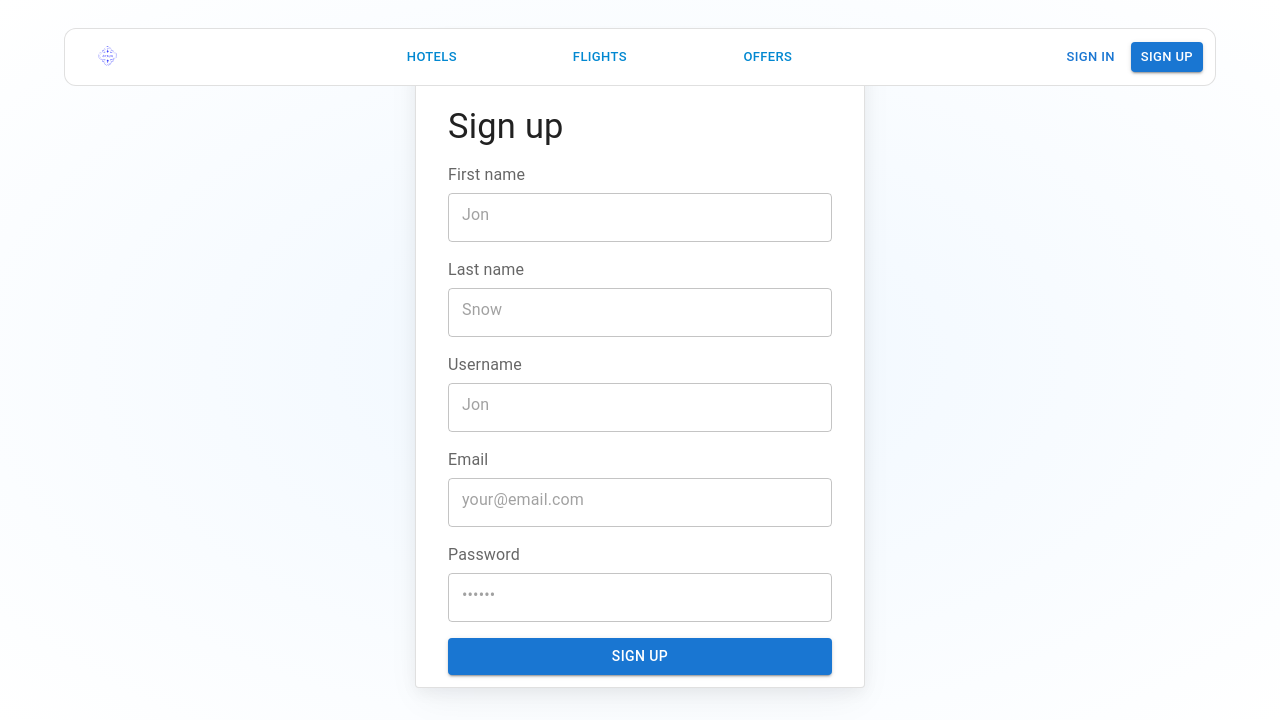
Test case: User Sign Up › should display an error for invalid email
# Enter an invalid email
Type "Eva" into the field named "firstname". click: (640, 215)
box: [448, 187, 832, 243]
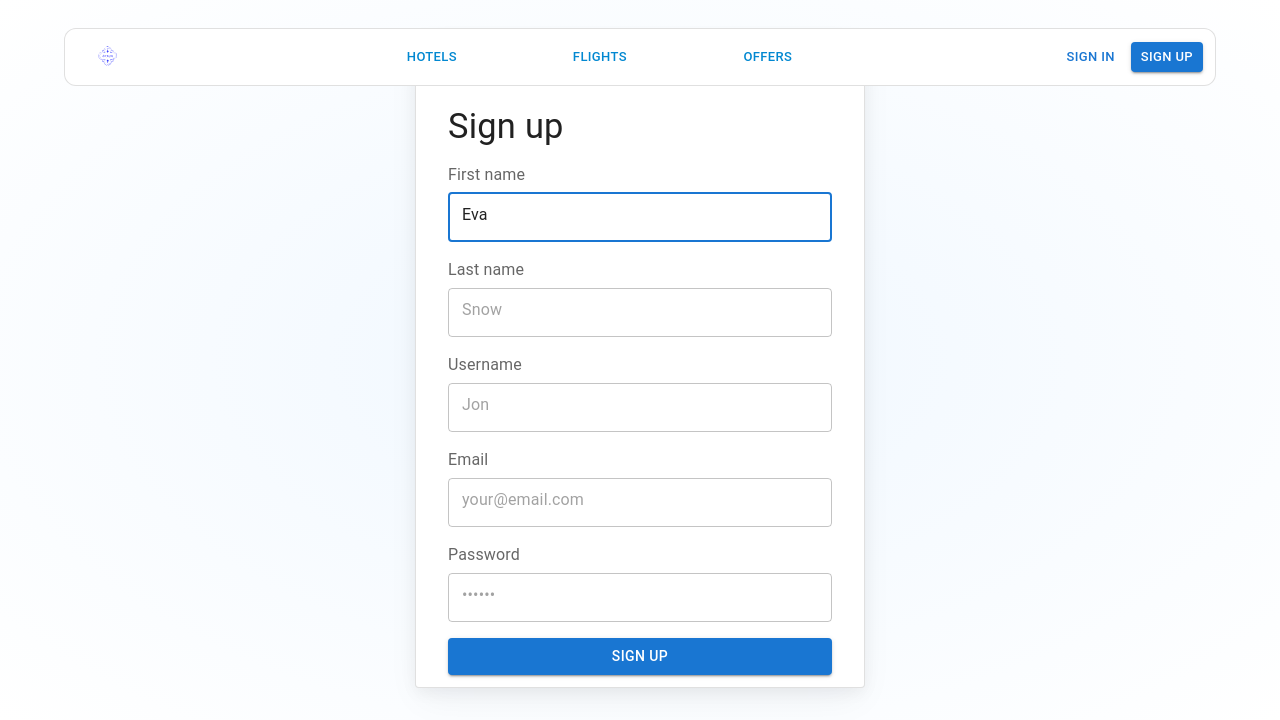
Type "Elfie" into the field named "lastname". click: (640, 310)
box: [448, 282, 832, 338]
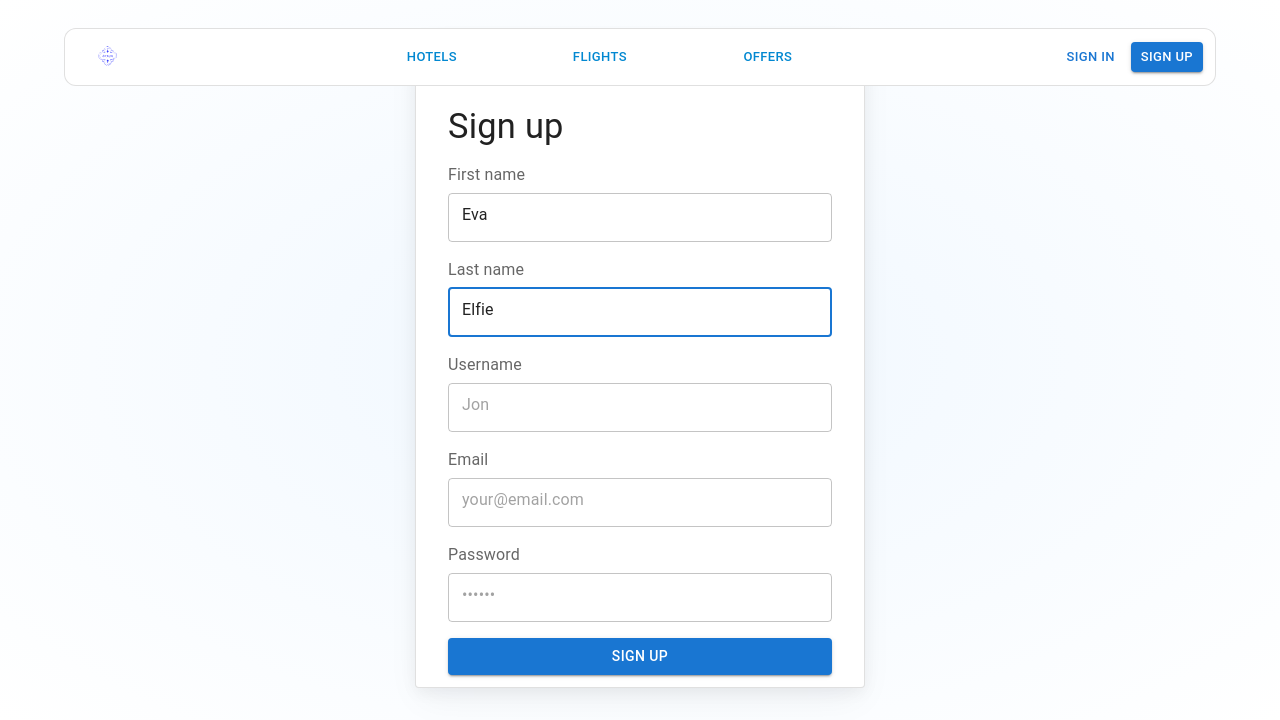
Type "Eva_Elfie" into the field named "pseudo". click: (640, 405)
box: [448, 377, 832, 433]
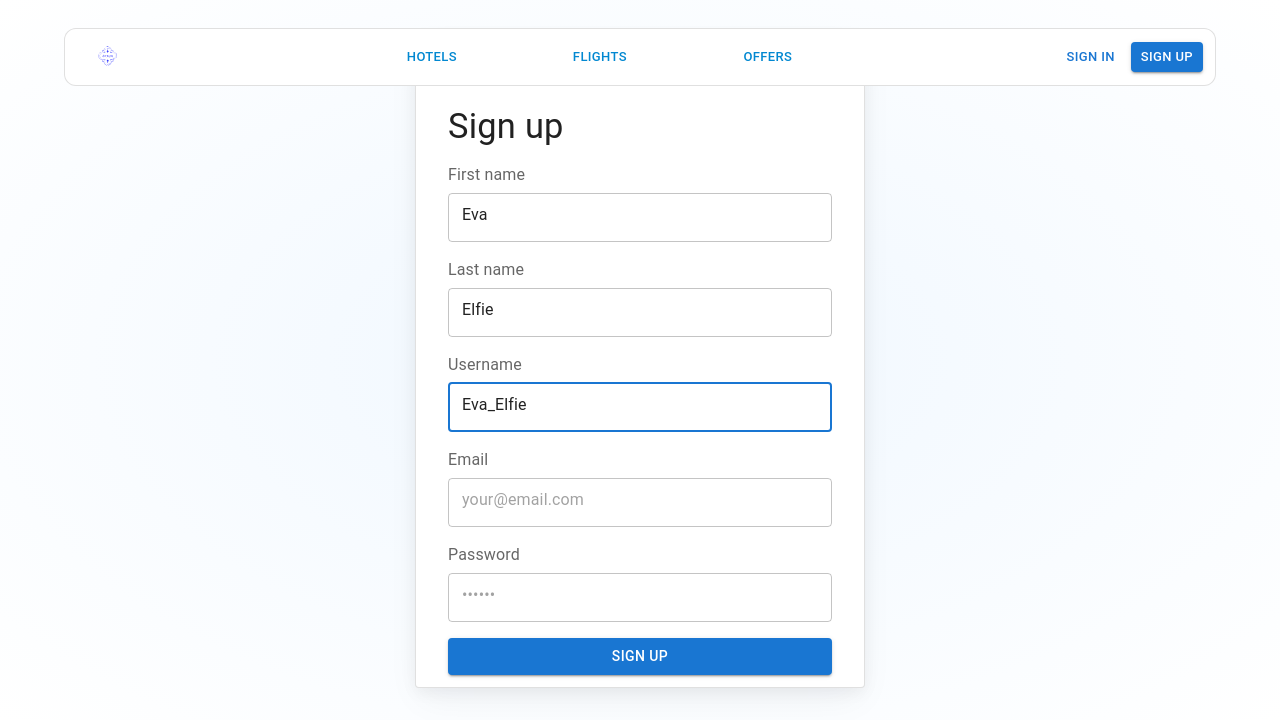
Type "Evaexample.com" into the field named "email". click: (640, 500)
box: [448, 472, 832, 528]
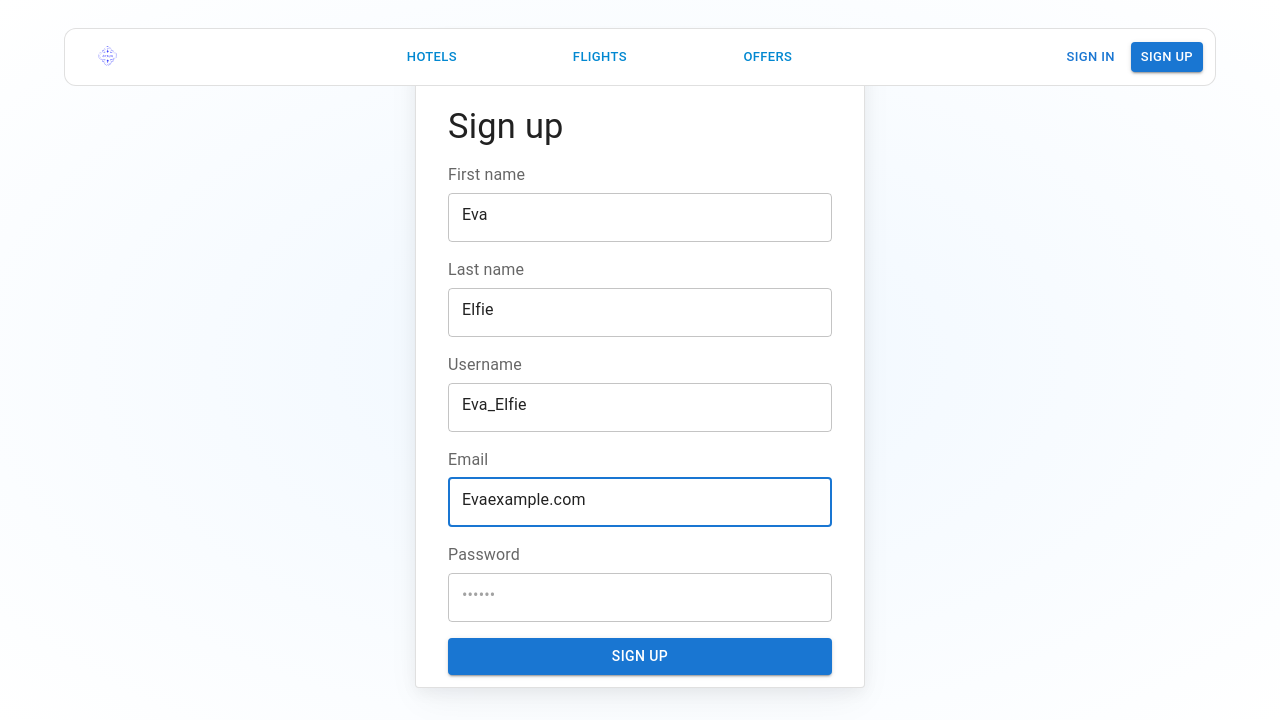
Type "EvaElfie1234." into the password field named "password". click: (640, 595)
box: [448, 567, 832, 623]
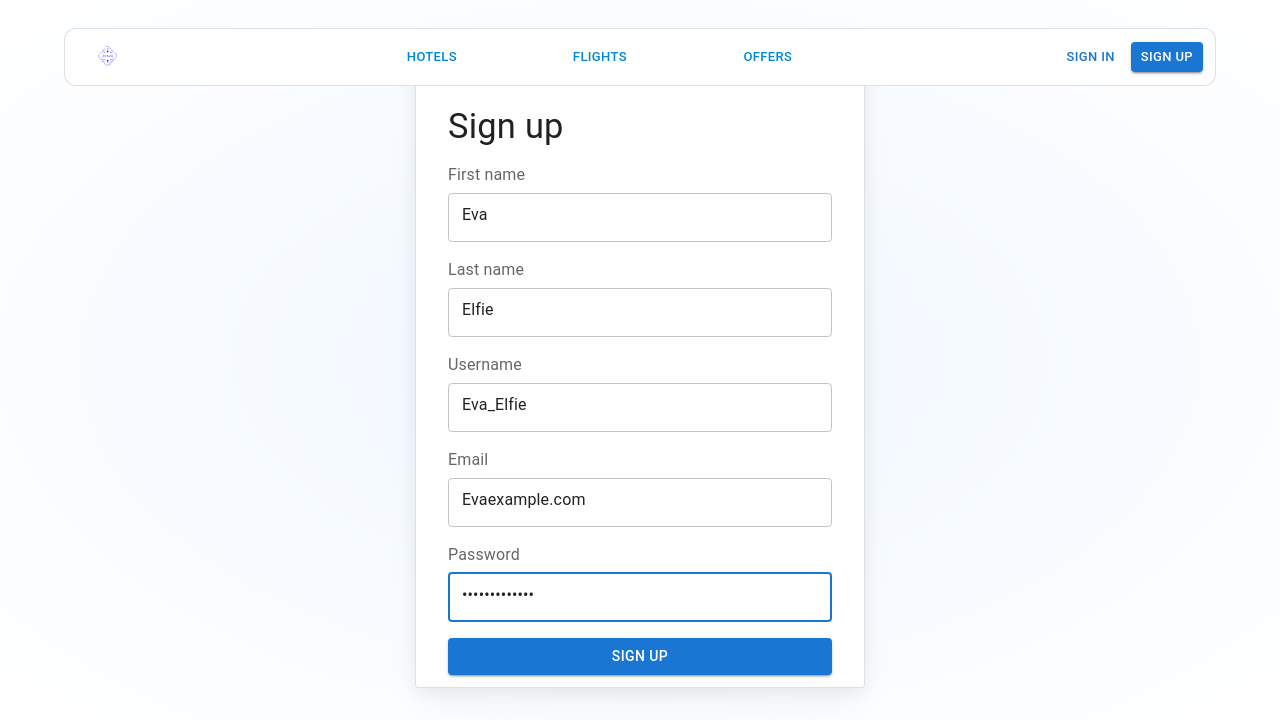
# Submit the form
Click the submit button. click: (640, 658)
box: [448, 639, 832, 676]
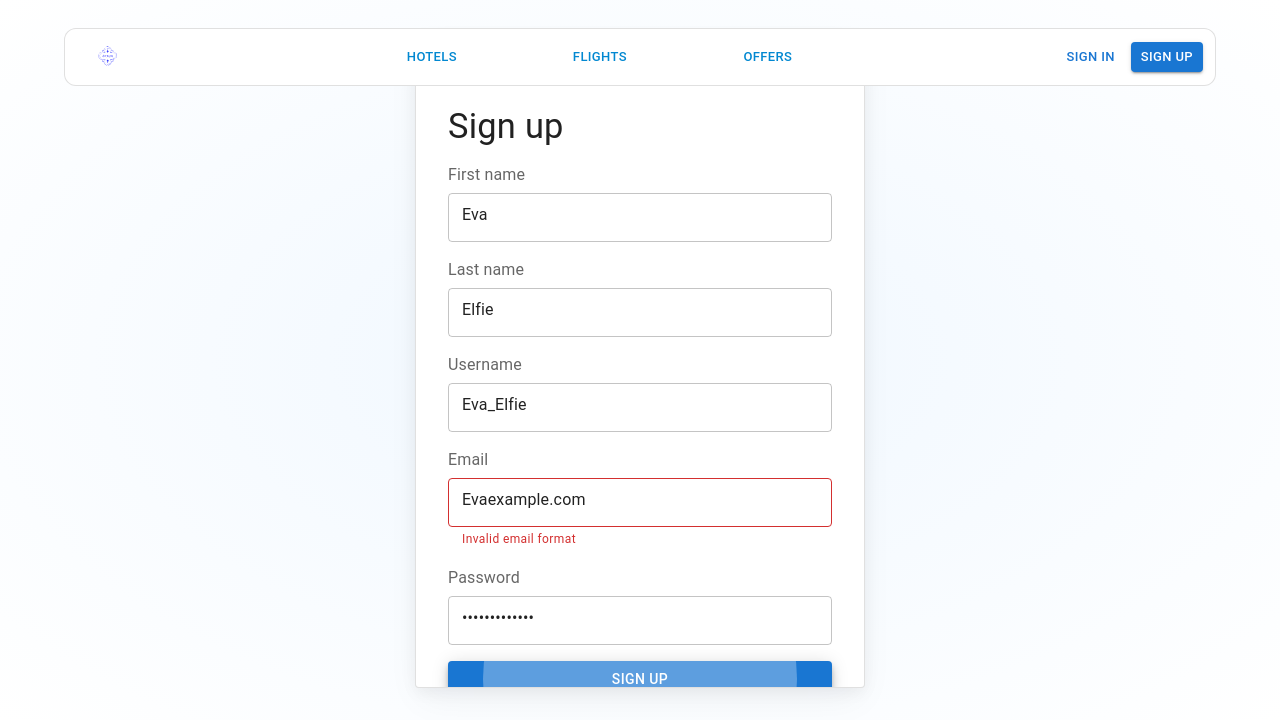
Expected: the text "Invalid email format" is shown, [462, 532, 576, 546]
